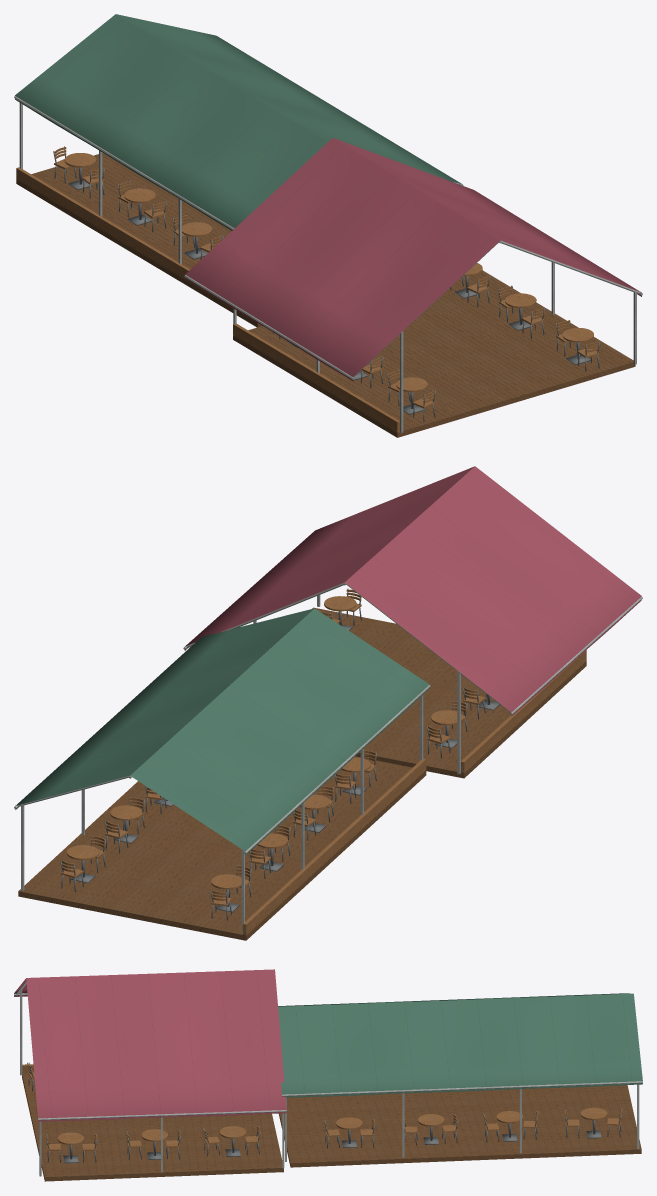
The picture shows the model from 3 angles, top to bottom: view 1: azimuth 30°, elevation 25°; view 2: azimuth 150°, elevation 25°; view 3: azimuth 270°, elevation 25°; orthographic projection. The views are drawn at different scales.
Visible parts, largest first — view 1: Burgundy, Green, Deck, Teak, Canopy frame, Metal; view 2: Green, Burgundy, Deck, Teak, Canopy frame, Metal; view 3: Burgundy, Deck, Green, Teak, Canopy frame, Metal.
Boxes of the visible parts, box(x1,y1,x2,y2) form: Burgundy: box(185, 138, 641, 380); Green: box(15, 14, 462, 230); Deck: box(16, 153, 635, 437); Teak: box(16, 147, 599, 432); Canopy frame: box(14, 96, 642, 432); Metal: box(53, 146, 599, 422); Green: box(15, 608, 429, 855); Burgundy: box(184, 466, 641, 716); Deck: box(18, 607, 586, 940); Teak: box(61, 589, 586, 935); Canopy frame: box(14, 582, 642, 933); Metal: box(60, 588, 499, 920); Burgundy: box(14, 969, 286, 1121); Deck: box(22, 1074, 641, 1181); Green: box(278, 993, 642, 1097); Teak: box(22, 1062, 621, 1150); Canopy frame: box(14, 981, 642, 1176); Metal: box(27, 1062, 622, 1163).
Size of the model in its own units: 10.01 by 4.99 by 19.83.
6 materials, 5 textured.
